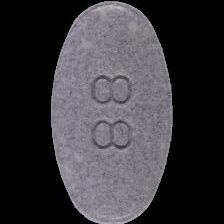0378-0088: (0, 0, 224, 224)
